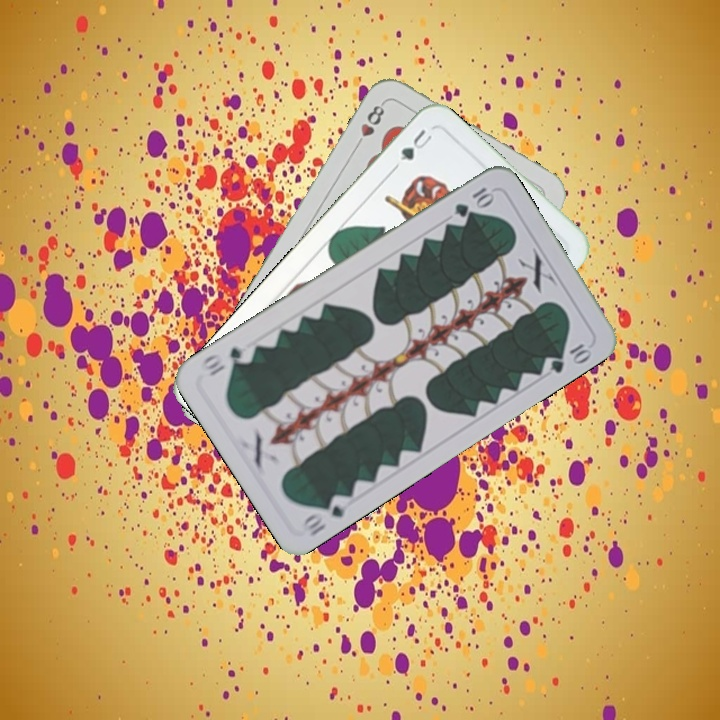G10: (296, 490, 349, 539), (450, 183, 497, 220)
GU: (395, 125, 436, 164)
H8: (351, 98, 388, 151)
